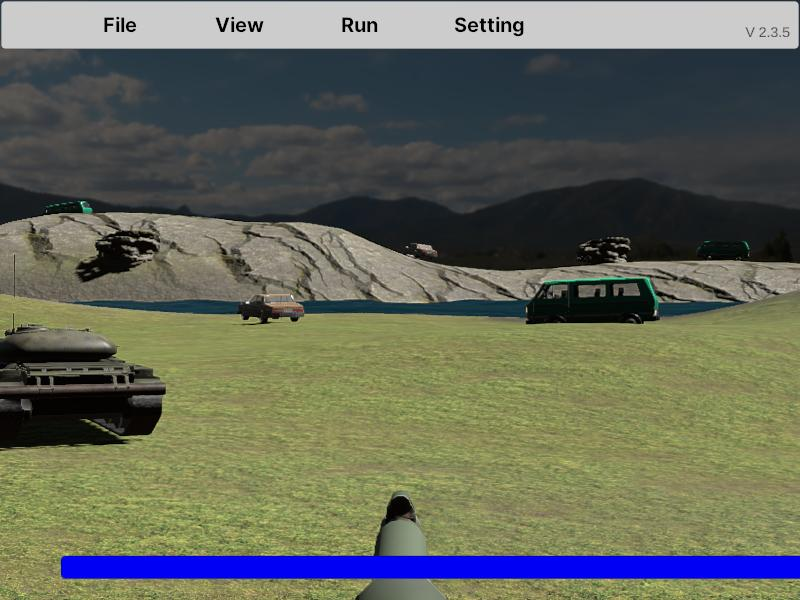Tank: (0, 324, 167, 442)
car: (525, 277, 661, 330), (238, 292, 304, 324)
